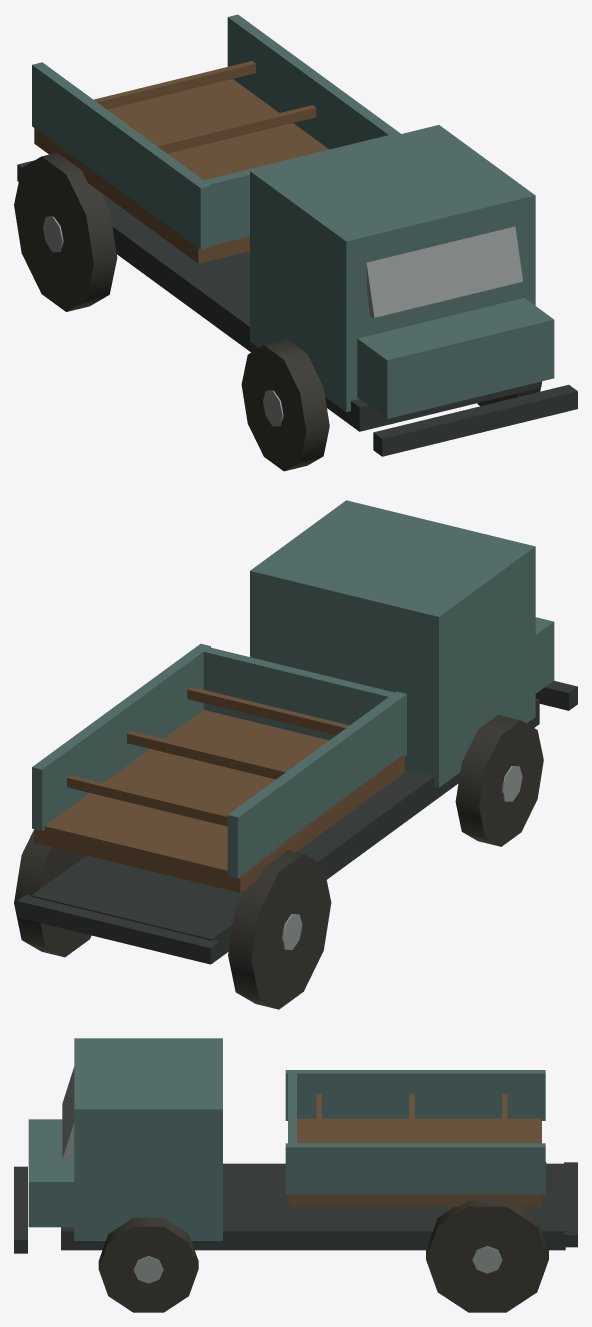
File: Farm-Truck.glb
3 renders of one model, top to bottom at view 1: azimuth 30°, elevation 25°; view 2: azimuth 150°, elevation 25°; view 3: azimuth 270°, elevation 25°, orthographic. The views are drawn at different scales.
Parts seen in each view (by area): view 1: farm-truck-static-farm-truck-paint-mat, farm-truck-static-farm-truck-wheel-mat, farm-truck-static-farm-truck-timber-mat, farm-truck-static-farm-truck-iron-mat, farm-truck-static-farm-truck-steel-mat; view 2: farm-truck-static-farm-truck-paint-mat, farm-truck-static-farm-truck-timber-mat, farm-truck-static-farm-truck-wheel-mat, farm-truck-static-farm-truck-iron-mat, farm-truck-static-farm-truck-steel-mat; view 3: farm-truck-static-farm-truck-paint-mat, farm-truck-static-farm-truck-iron-mat, farm-truck-static-farm-truck-wheel-mat, farm-truck-static-farm-truck-timber-mat, farm-truck-static-farm-truck-steel-mat.
Part boxes in pixels (<box>): farm-truck-static-farm-truck-paint-mat: <box>32,14,554,418</box>; farm-truck-static-farm-truck-wheel-mat: <box>14,152,542,471</box>; farm-truck-static-farm-truck-timber-mat: <box>34,61,328,263</box>; farm-truck-static-farm-truck-iron-mat: <box>17,160,577,456</box>; farm-truck-static-farm-truck-steel-mat: <box>43,216,522,426</box>; farm-truck-static-farm-truck-paint-mat: <box>32,500,554,878</box>; farm-truck-static-farm-truck-timber-mat: <box>34,687,404,892</box>; farm-truck-static-farm-truck-wheel-mat: <box>14,715,543,1009</box>; farm-truck-static-farm-truck-iron-mat: <box>17,680,577,964</box>; farm-truck-static-farm-truck-steel-mat: <box>281,766,522,949</box>; farm-truck-static-farm-truck-paint-mat: <box>28,1038,545,1240</box>; farm-truck-static-farm-truck-iron-mat: <box>14,1162,577,1253</box>; farm-truck-static-farm-truck-wheel-mat: <box>98,1162,548,1312</box>; farm-truck-static-farm-truck-timber-mat: <box>289,1093,541,1206</box>; farm-truck-static-farm-truck-steel-mat: <box>62,1067,502,1283</box>.
Size of the model in its own units: 1.84 by 1.85 by 4.86.
